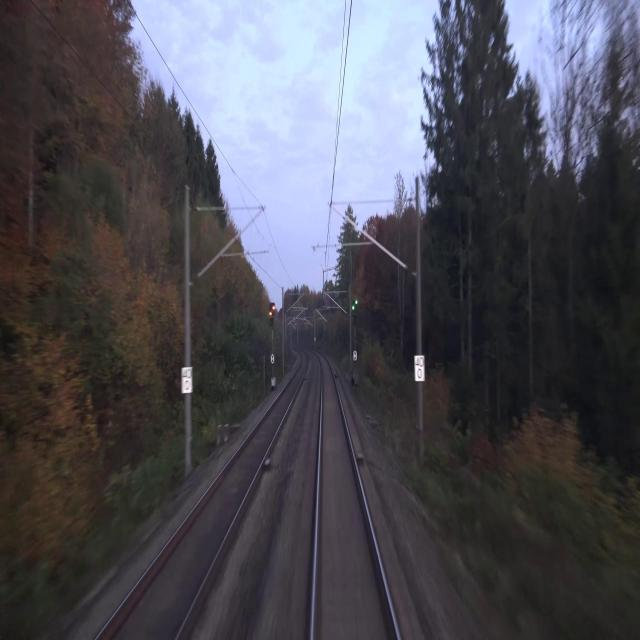rail-track: (100, 354, 306, 639), (316, 357, 396, 639)
